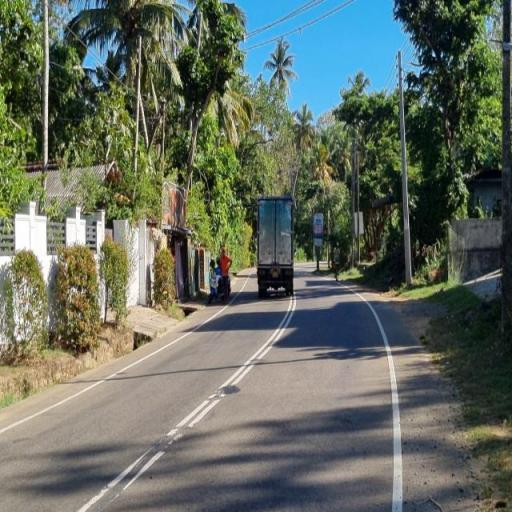double_white_line: (170, 297, 296, 438)
